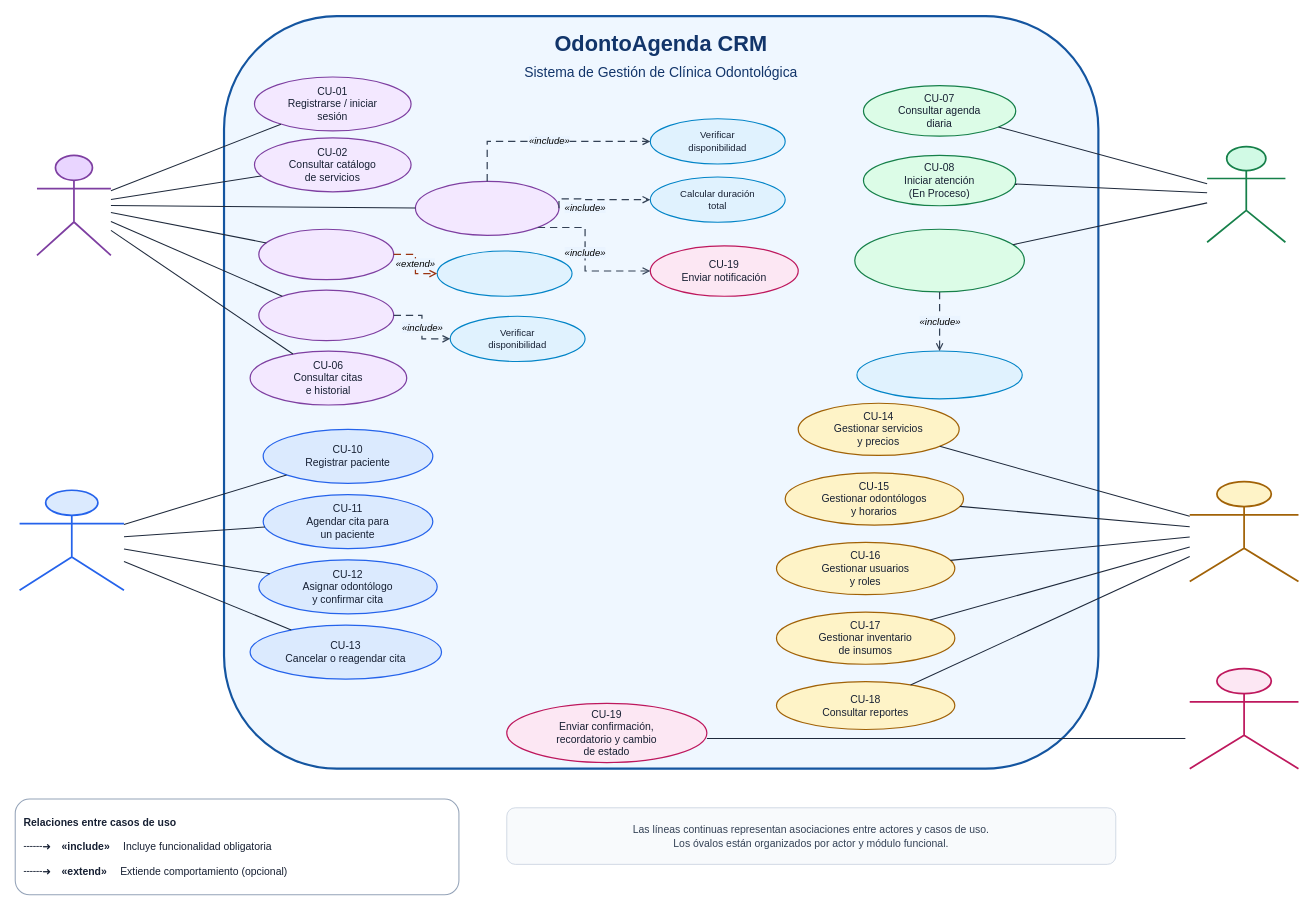
This 1315x910 diagram has some shape labels left out. The shapes that lost their labels are listed below. From the top down, each one's centre as x and y in pixels, then its label:
At [73,205]: "Paciente".
At [486,208]: "CU-03 Agendar cita".
At [1246,194]: "Odontólogo".
At [326,254]: "CU-04 Cancelar cita".
At [504,273]: "Aplicar política de cancelación".
At [939,260]: "CU-09 Finalizar atención y registrar observaciones (Atendido)".
At [326,315]: "CU-05 Reagendar cita".
At [939,374]: "Actualizar historial y descontar insumos".
At [71,540]: "Recepcionista".
At [1243,531]: "Administrador".
At [1243,718]: "Sistema de notificaciones".
